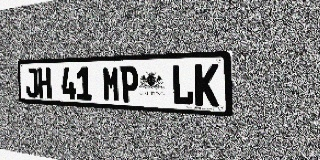1: (76, 67, 92, 101)
4: (61, 67, 76, 100)
H: (37, 68, 52, 99)
J: (25, 68, 38, 98)
K: (195, 64, 219, 107)
L: (171, 64, 194, 106)
M: (102, 66, 120, 102)
P: (120, 66, 139, 103)
